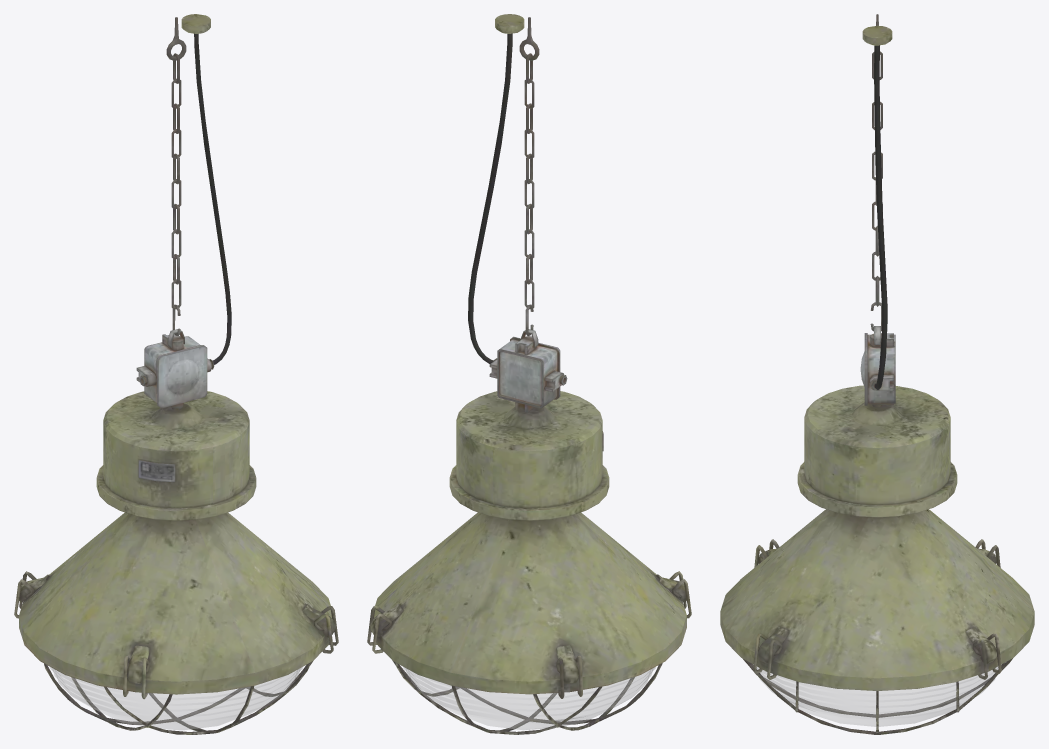
The model's file is hanging_industrial_lamp.glb.
3 views of the same model, side by side, from view 1: azimuth 30°, elevation 25°; view 2: azimuth 150°, elevation 25°; view 3: azimuth 270°, elevation 25° (orthographic).
Visible parts, largest first — view 1: hanging_industrial_lamp; view 2: hanging_industrial_lamp; view 3: hanging_industrial_lamp.
Boxes of the visible parts, bbox=[...] form: hanging_industrial_lamp: bbox=[14, 14, 338, 734]; hanging_industrial_lamp: bbox=[367, 14, 691, 734]; hanging_industrial_lamp: bbox=[720, 14, 1034, 734].
Bounding box in the file's own units: 0.5497 × 1.36 × 0.5497.
2 materials, 1 textured.
